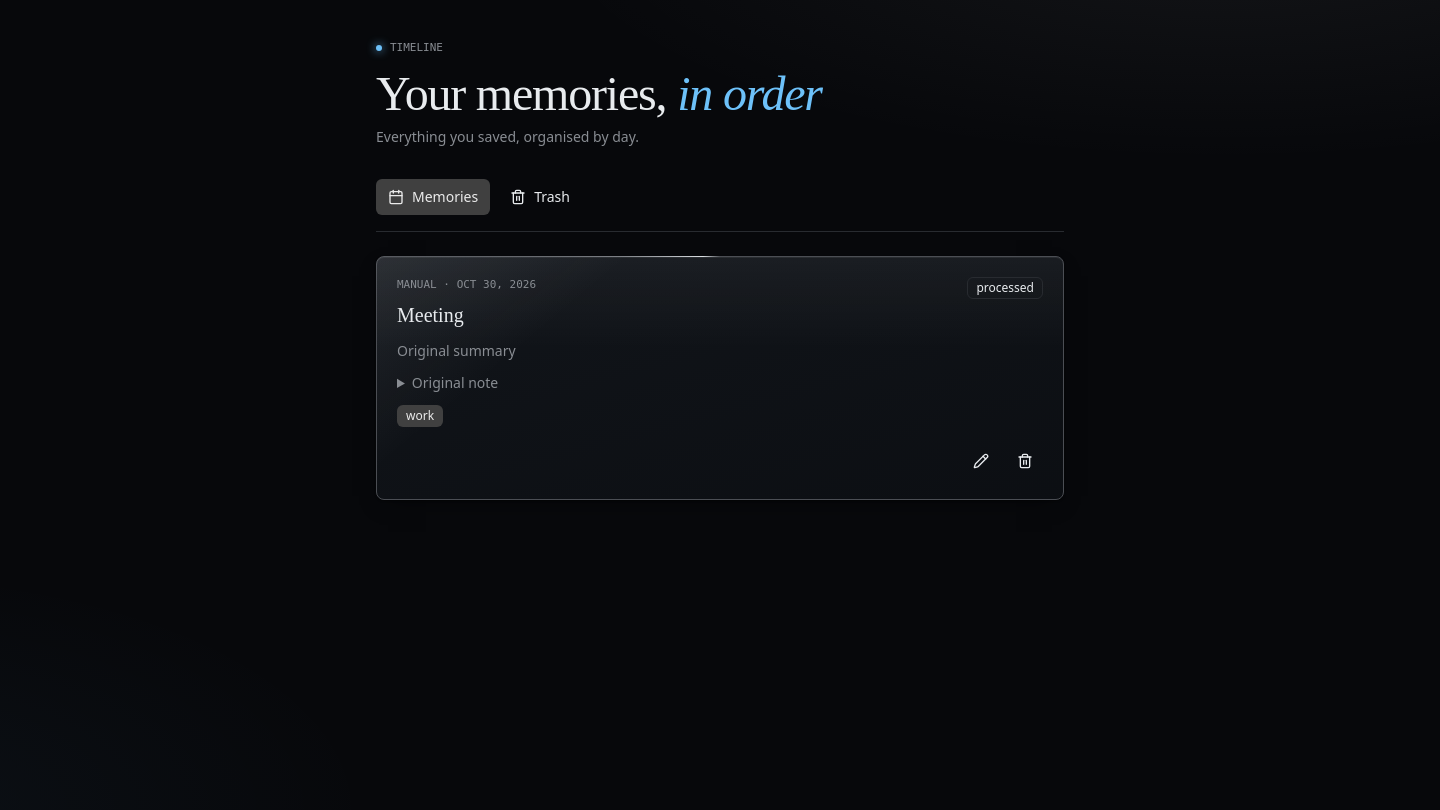
Test: Timeline memory lifecycle interactions › saves edited note, title, summary, and deduplicated tags then reads them back
The width and height of the screenshot is (1440, 810).
Step 1. Click the button named "Edit memory" → point(981, 461), box [963,443,999,479]
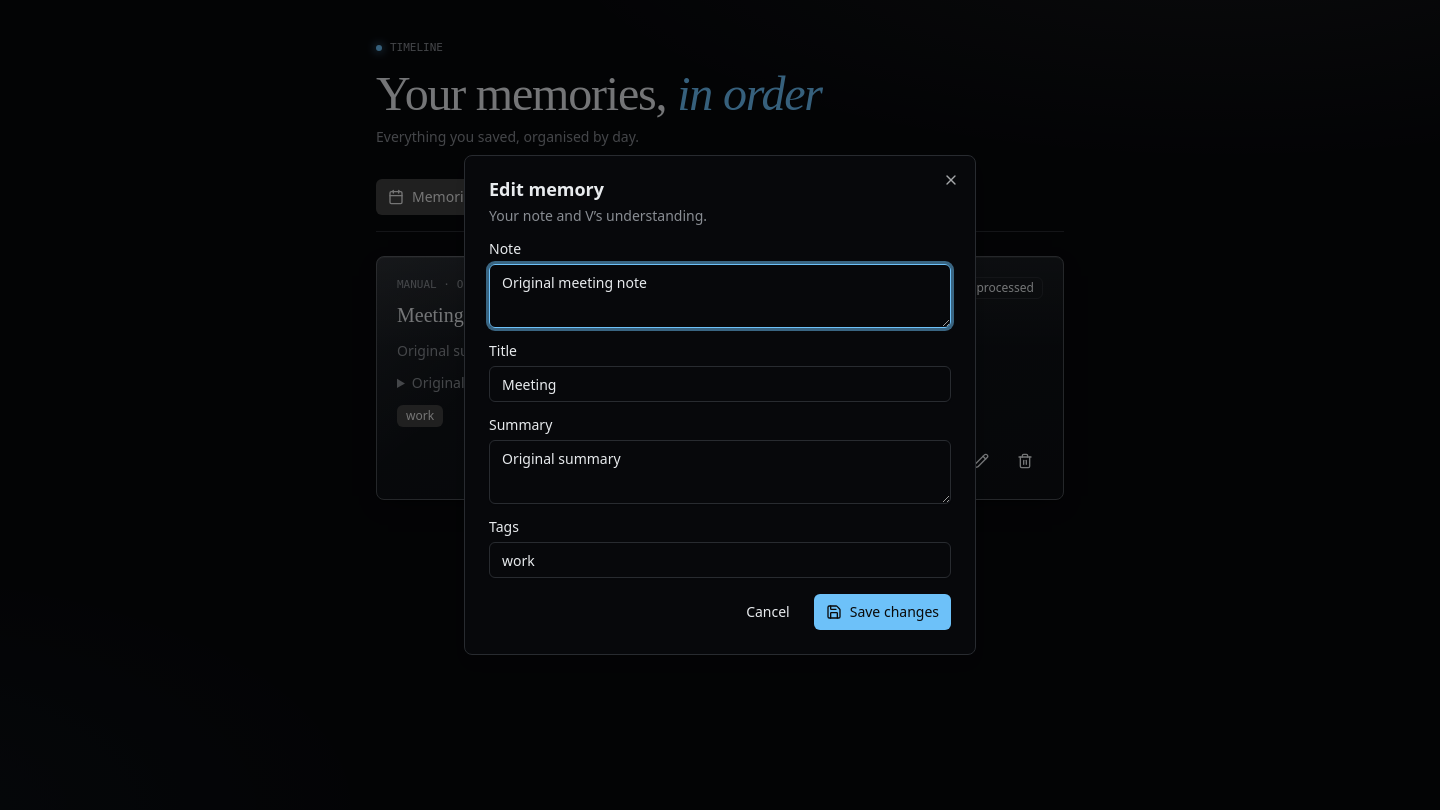
Step 2. Replace the text in the text box labelled "Note" with "Corrected note" → point(720, 296), box [489,264,951,328]
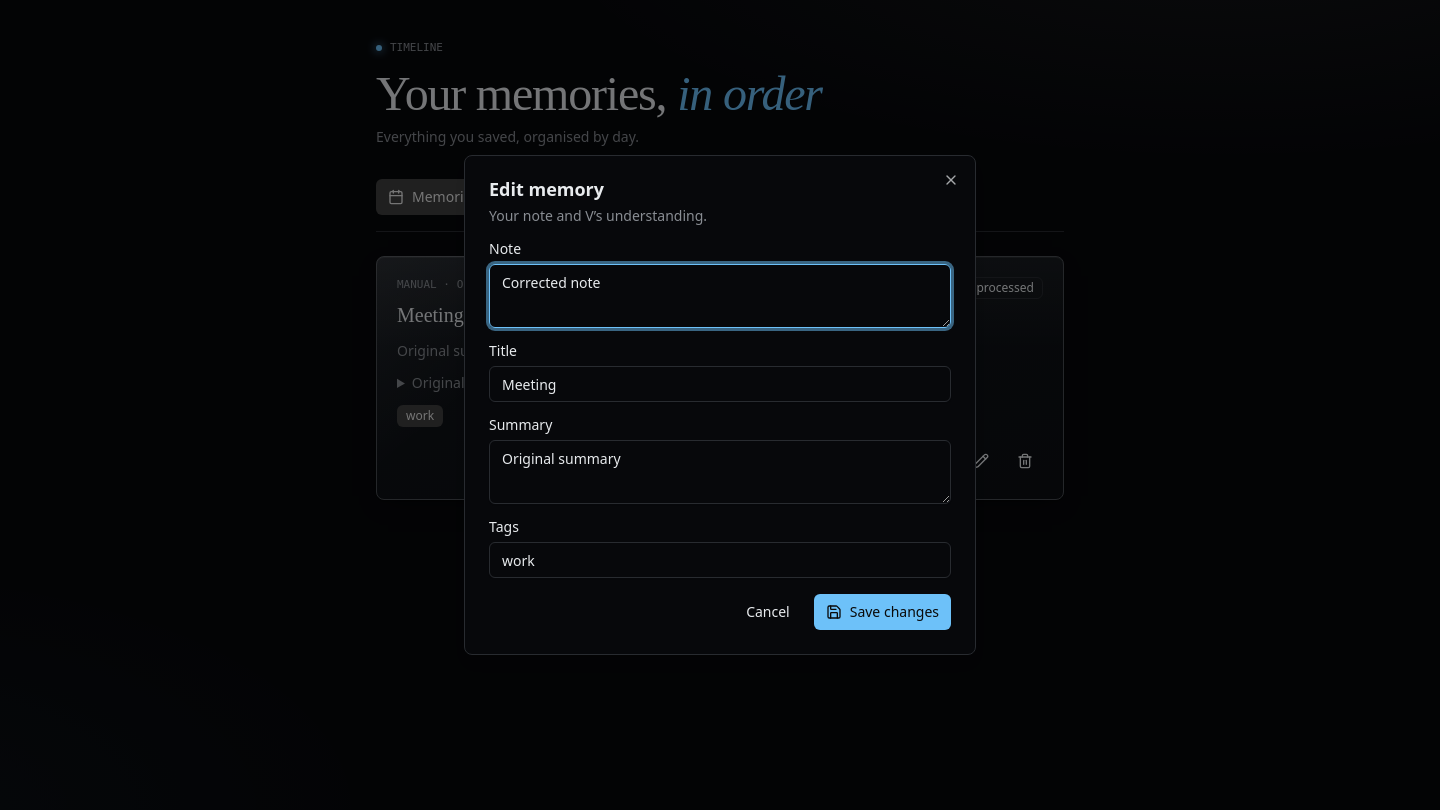
Step 3. Replace the text in the field labelled "Title" with "Updated meeting" → point(720, 384), box [489,366,951,402]
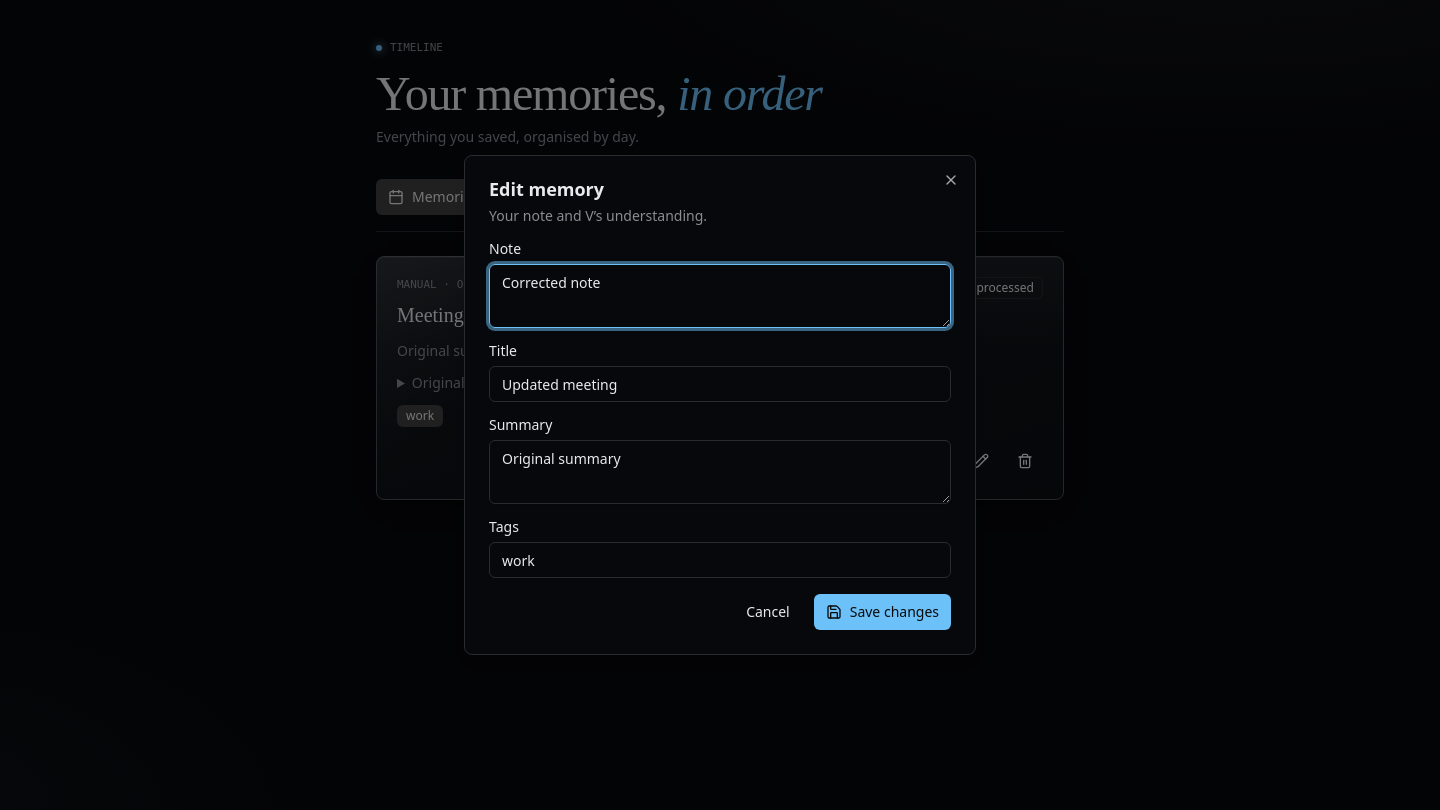
Step 4. Replace the text in the text box labelled "Summary" with "Corrected summary" → point(720, 472), box [489,440,951,504]
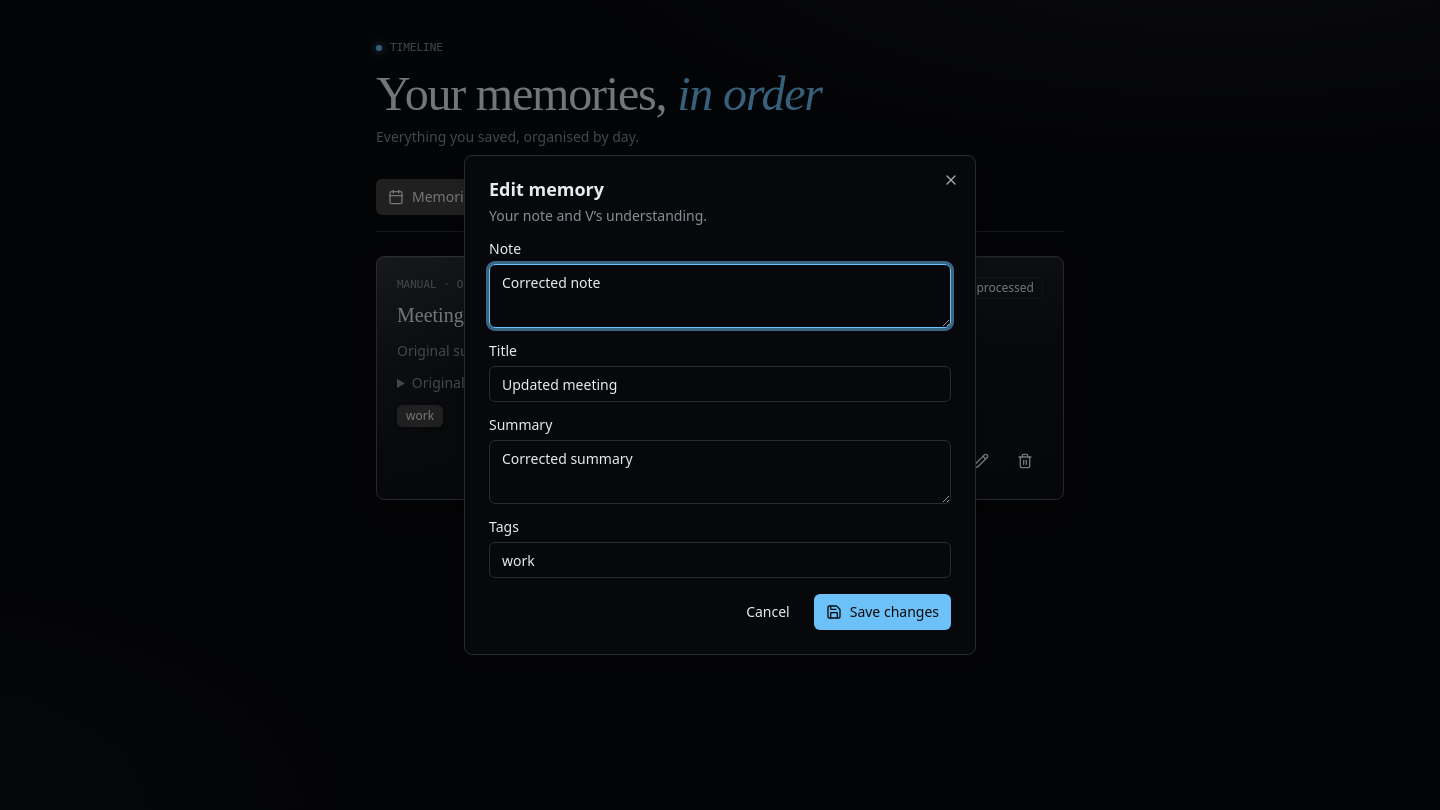
Step 5. Replace the text in the field labelled "Tags" with "work, planning, work" → point(720, 560), box [489,542,951,578]
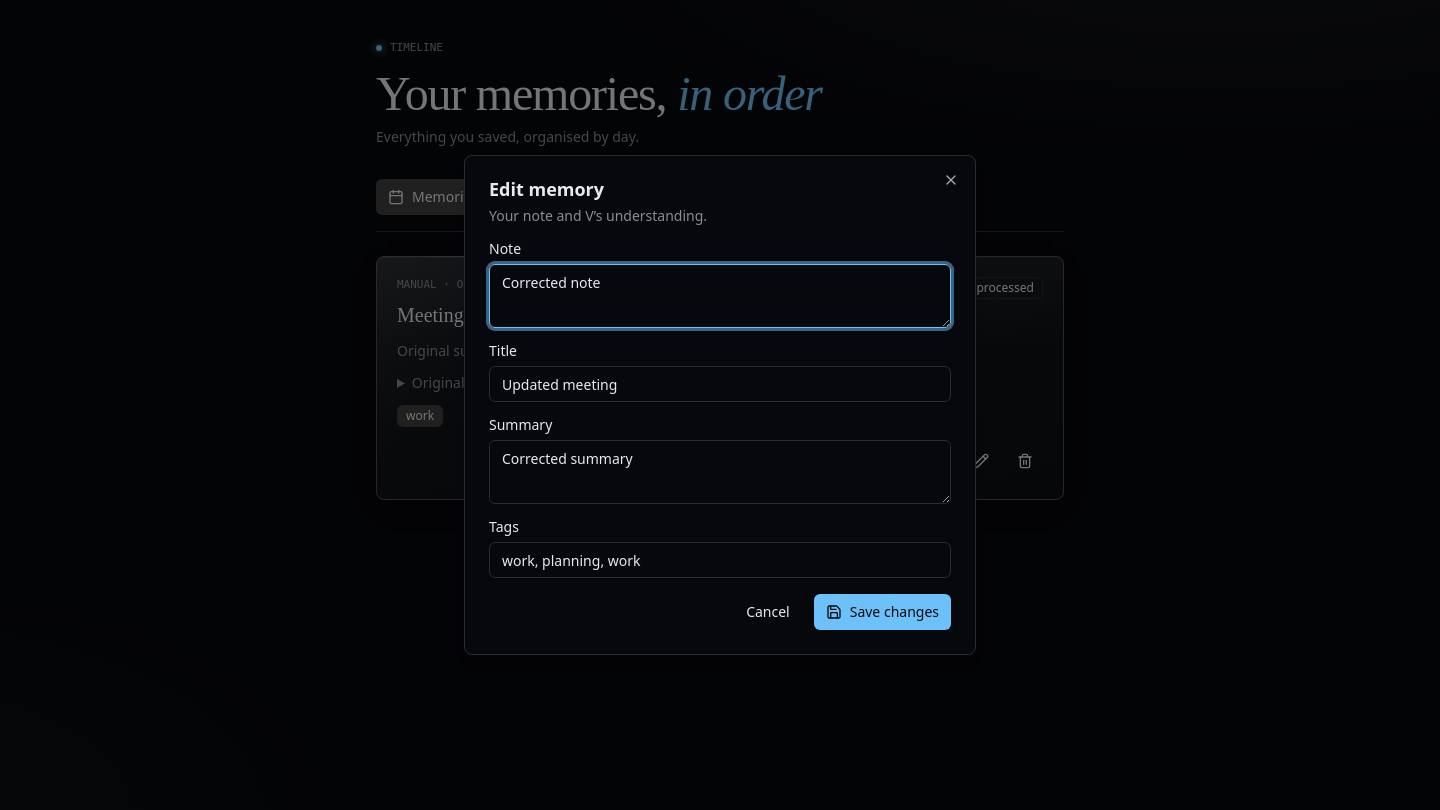
Step 6. Click the button "Save changes" → point(882, 612), box [814,594,951,630]
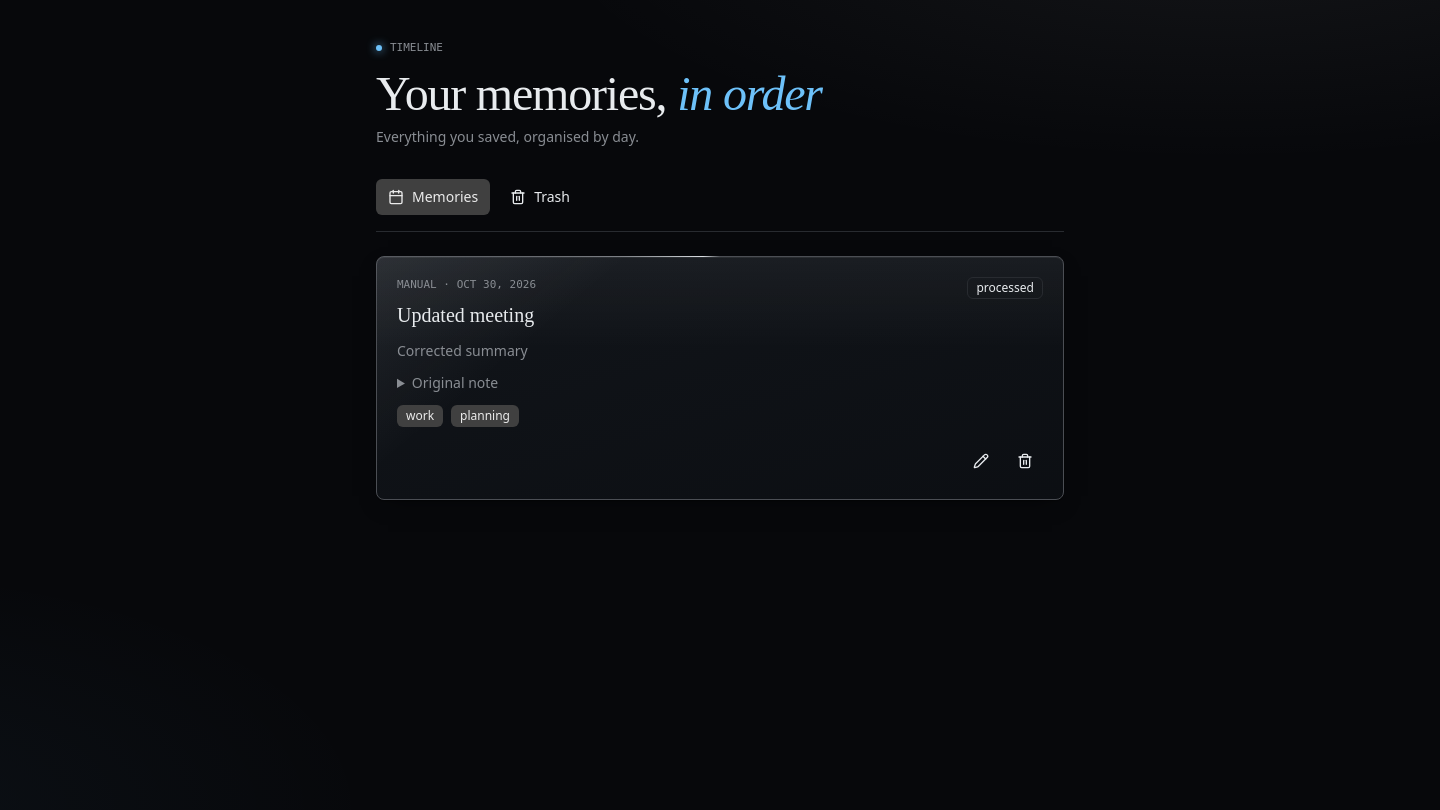
Now the heading "Updated meeting" is shown, box [397,301,536,329]
Now the dialog is gone
